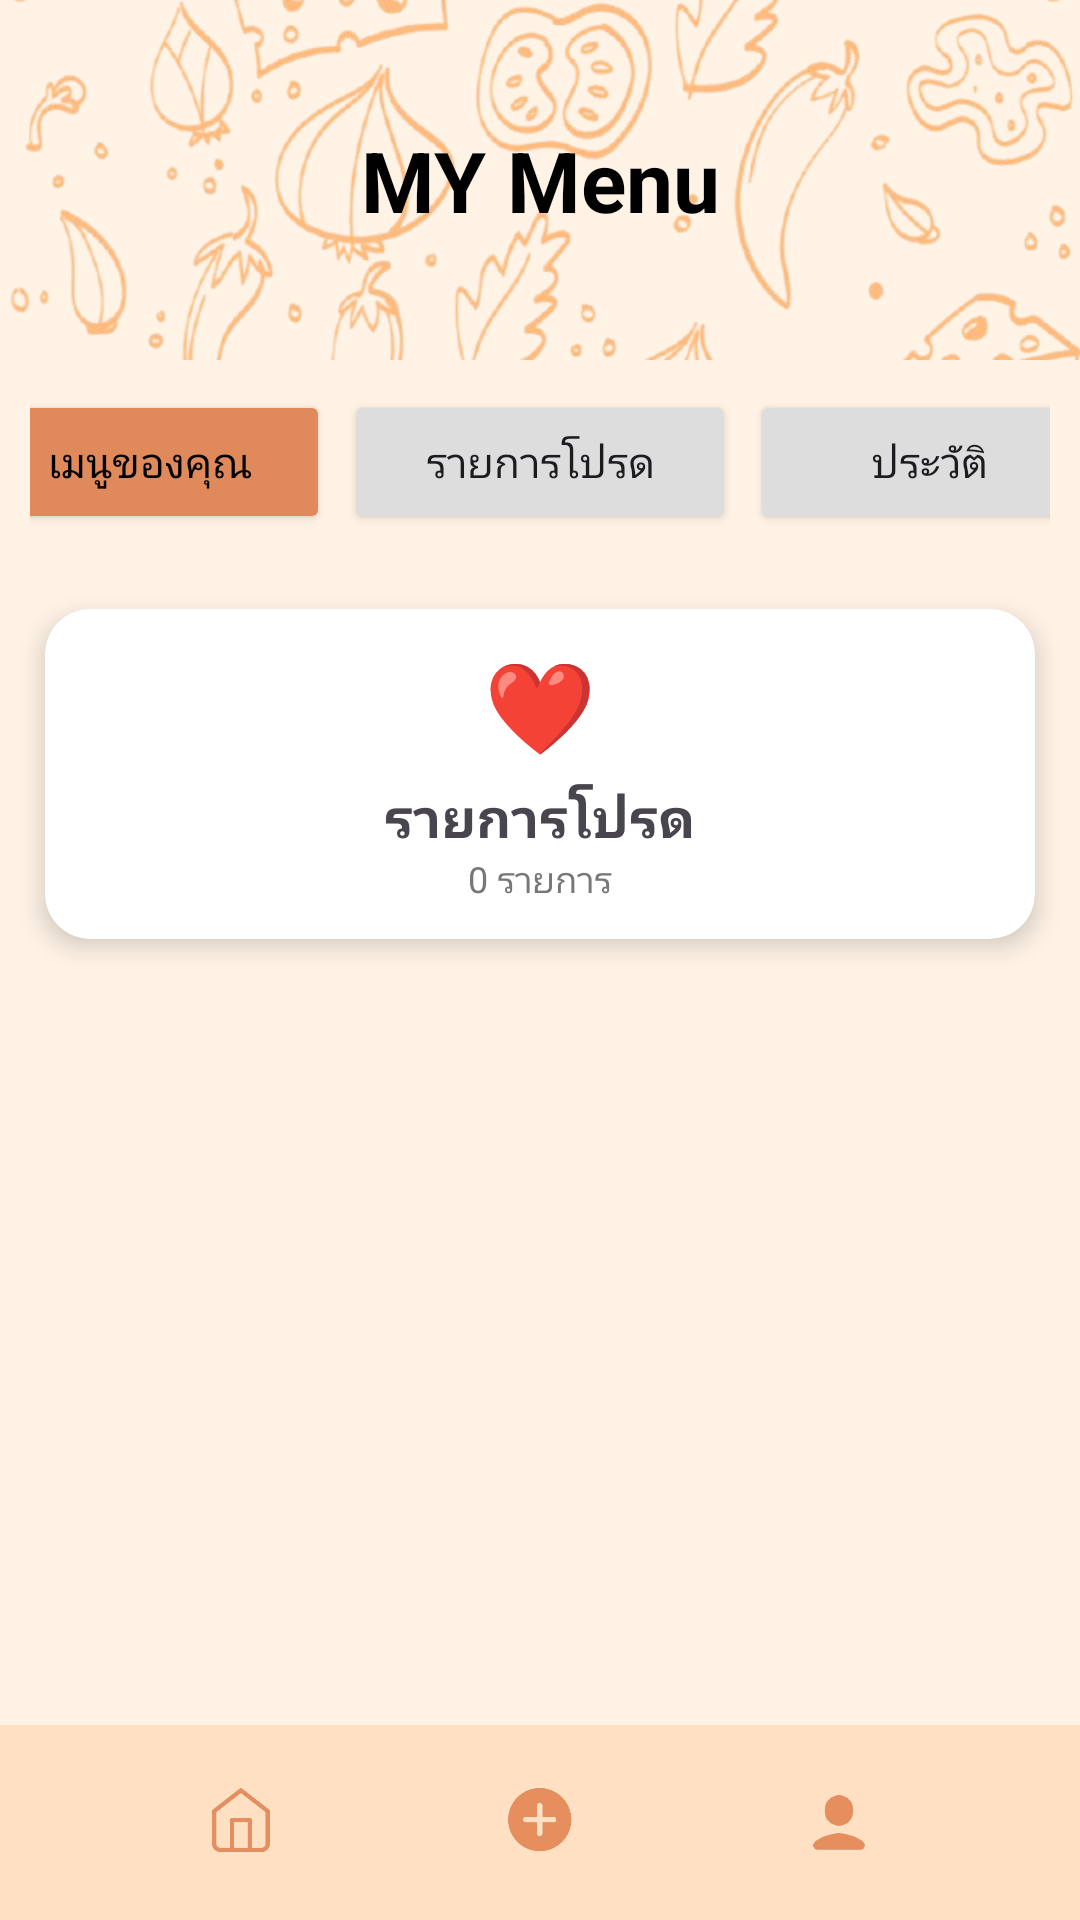

Where icons sit on this 1080px×1920px app screen, as (x1, y1, x2, y2):
add: (508, 1788, 571, 1851)
home: (212, 1788, 270, 1852)
prof: (813, 1795, 865, 1850)
